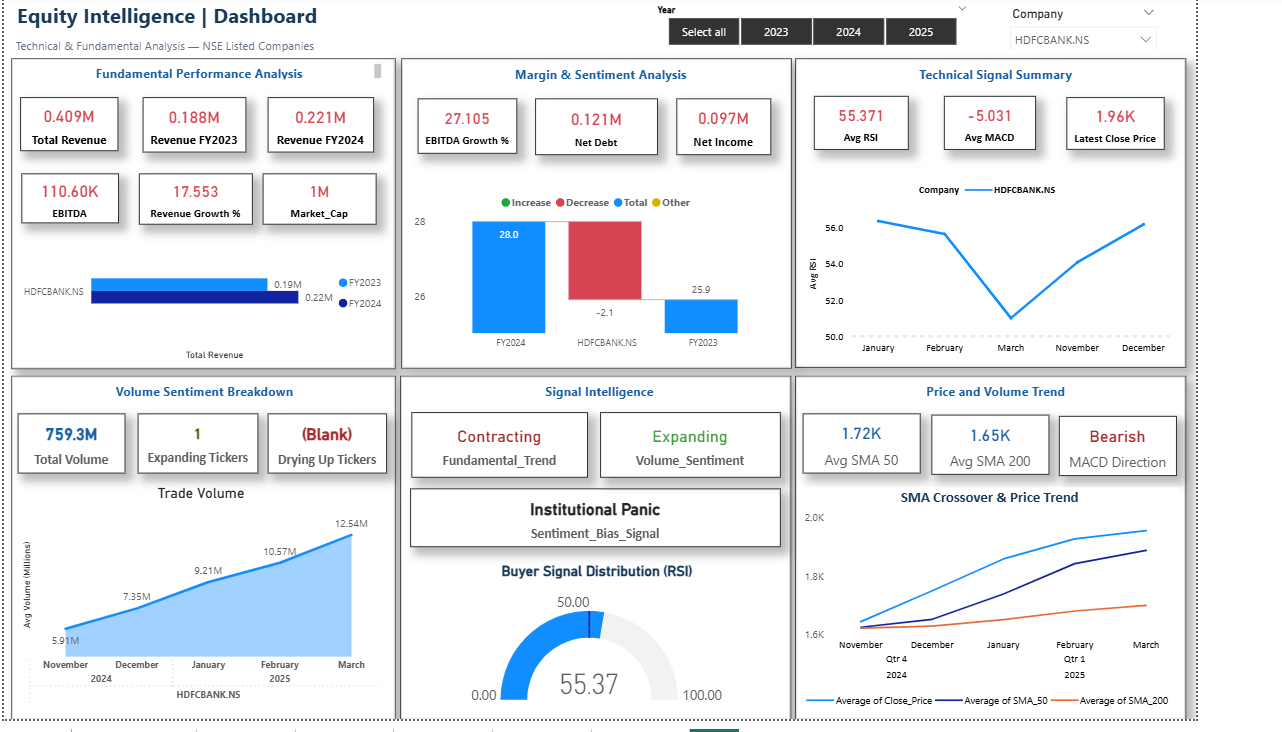

Layout of this report page (visuals, bound fields, positions):
{"tool":"powerbi","page":{"name":"Dashboard","canvas":[1400,850],"ordinal":0},"visuals":[{"type":"shape","box":[9,73,451,365],"z":0},{"type":"shape","box":[467.1,72.9,458.6,364.3],"z":1000},{"type":"shape","box":[929,73.5,459.3,363.2],"z":2000},{"type":"shape","box":[8.6,445.7,451.4,404.3],"z":3000},{"type":"shape","box":[465.3,445.8,459.3,403.7],"z":4000},{"type":"shape","box":[929,445.8,459.3,403.7],"z":5000},{"type":"textbox","box":[10,1,450,42],"z":6000},{"type":"textbox","box":[9,44,450,29],"z":7000},{"type":"slicer","fields":{"Values":["Dim_Date.Year"]},"box":[755,5,388.3,60],"z":8000},{"type":"card","fields":{"Values":["Sum(Fact_Fundamentals.Total_Revenue_Cr)"]},"box":[19.5,118.6,115.6,63],"z":9000},{"type":"card","fields":{"Values":["Sum(Fact_Fundamentals.EBITDA_Cr)"]},"box":[21,208.6,114.1,58.5],"z":10000},{"type":"card","fields":{"Values":["Fact_Fundamentals.Revenue FY2024"]},"box":[309.2,118.6,124.6,64.5],"z":11000},{"type":"card","fields":{"Values":["Fact_Fundamentals.Revenue FY2023"]},"box":[163.6,118.6,121.6,64.5],"z":12000},{"type":"card","fields":{"Values":["Fact_Fundamentals.Revenue Growth %"]},"box":[159.1,208.6,133.6,60],"z":13000},{"type":"clusteredBarChart","fields":{"Category":["Dim_Company.Ticker"],"Y":["Sum(Fact_Fundamentals.Total_Revenue_Cr)"],"Series":["Fact_Fundamentals.Fiscal_Year"]},"box":[12,264.2,445.8,168.1],"z":14000},{"type":"textbox","box":[19.5,75,429.2,28.5],"z":15000},{"type":"textbox","box":[485.7,75.7,430,30],"z":16000},{"type":"card","fields":{"Values":["Fact_Fundamentals.EBITDA Growth %"]},"box":[486.3,120.1,117.1,64.5],"z":17000},{"type":"card","fields":{"Values":["Sum(Fact_Fundamentals.Net_Income_Cr)"]},"box":[789.5,120.1,111.1,66],"z":18000},{"type":"card","fields":{"Values":["Sum(Fact_Fundamentals.Net_Debt_Cr)"]},"box":[624.4,120.1,144.1,66],"z":19000},{"type":"waterfallChart","fields":{"Category":["Fact_Fundamentals.Fiscal_Year"],"Y":["Sum(Fact_Fundamentals.EBITDA_Margin_Pct)"],"Breakdown":["Dim_Company.Ticker"]},"box":[477.3,223.6,439.8,201.1],"z":20000},{"type":"textbox","box":[950,76,430,30],"z":21000},{"type":"card","fields":{"Values":["Fact_Technicals.Avg RSI"]},"box":[951.5,117.1,111.1,63],"z":22000},{"type":"card","fields":{"Values":["Avg(Fact_Technicals.MACD)"]},"box":[1104.6,117.1,108.1,63],"z":23000},{"type":"card","fields":{"Values":["Fact_Technicals.Latest Close Price"]},"box":[1248.7,118.6,115.6,61.5],"z":24000},{"type":"lineChart","fields":{"Category":["Dim_Date.Date.Variation.Date Hierarchy.Month"],"Y":["Avg(Fact_Technicals.RSI)"],"Series":["Dim_Company.Ticker"]},"box":[939.5,208.6,435.3,222.1],"z":25000},{"type":"textbox","box":[20,450,430,30],"z":26000},{"type":"card","fields":{"Values":["Sum(Fact_Technicals.Volume)"]},"box":[16.7,490,126.7,70],"z":27000},{"type":"card","fields":{"Values":["Fact_Technicals.Expanding Count"]},"box":[156.7,490,141.7,70],"z":28000},{"type":"card","fields":{"Values":["Fact_Technicals.Drying Up Count"]},"box":[310,490,140,70],"z":29000},{"type":"areaChart","title":"Trade Volume","fields":{"Category":["Dim_Company.Ticker","Dim_Date.Date.Variation.Date Hierarchy.Year","Dim_Date.Date.Variation.Date Hierarchy.Month"],"Y":["Avg(Fact_Technicals.Volume)"]},"box":[16.5,574.8,430.7,267.2],"z":30000},{"type":"textbox","box":[485,450,430,30],"z":31000},{"type":"gauge","title":"Buyer Signal Distribution (RSI)","fields":{"Y":["Avg(Fact_Technicals.RSI)"]},"box":[476.7,665,438.3,171.7],"z":32000},{"type":"textbox","box":[950,450,430,30],"z":33000},{"type":"card","fields":{"Values":["Avg(Fact_Technicals.SMA_50)"]},"box":[938.3,490,138.3,70],"z":34000},{"type":"card","fields":{"Values":["Avg(Fact_Technicals.SMA_200)"]},"box":[1090,491.7,138.3,70],"z":35000},{"type":"card","fields":{"Values":["Fact_Technicals.MACD Signal Direction"]},"box":[1240,493.3,138.3,70],"z":36000},{"type":"slicer","fields":{"Values":["Dim_Company.Ticker"]},"box":[1172.2,7.5,192.1,55.5],"z":37000},{"type":"card","fields":{"Values":["Sum(Dim_Company.Market_Cap_Cr)"]},"box":[304.7,208.6,133.6,60],"z":38000},{"type":"card","fields":{"Values":["Fact_Fundamentals.1_Fundamental_Margin_Trend"]},"box":[478.8,489.3,207.1,76.5],"z":39000},{"type":"card","fields":{"Values":["Fact_Technicals.3_Sentiment_Bias_Signal"]},"box":[477.3,579.3,435.3,69],"z":40000},{"type":"card","fields":{"Values":["Fact_Technicals.2_Volume_Sentiment_Trend"]},"box":[700.9,489.3,211.6,76.5],"z":41000},{"type":"lineChart","title":"SMA Crossover & Price Trend","fields":{"Category":["Dim_Date.Date.Variation.Date Hierarchy.Year","Dim_Date.Date.Variation.Date Hierarchy.Quarter","Dim_Date.Date.Variation.Date Hierarchy.Month","Dim_Date.Date.Variation.Date Hierarchy.Day","Dim_Company.Ticker"],"Y":["Avg(Fact_Technicals.Close_Price)","Avg(Fact_Technicals.SMA_50)","Avg(Fact_Technicals.SMA_200)"]},"box":[935,576.7,445,268.3],"z":42000}]}

Visuals, with their boxes in screenshot pixels (x1, y1, x2, y2):
shape: <region>11, 55, 394, 365</region>
shape: <region>400, 55, 789, 364</region>
shape: <region>791, 56, 1181, 364</region>
shape: <region>11, 371, 394, 714</region>
shape: <region>398, 371, 788, 714</region>
shape: <region>791, 371, 1181, 714</region>
textbox: <region>12, 0, 394, 30</region>
textbox: <region>11, 31, 393, 55</region>
slicer - Dim_Date.Year: <region>644, 0, 973, 48</region>
card - Sum(Fact_Fundamentals.Total_Revenue_Cr): <region>20, 94, 118, 147</region>
card - Sum(Fact_Fundamentals.EBITDA_Cr): <region>21, 170, 118, 220</region>
card - Fact_Fundamentals.Revenue FY2024: <region>266, 94, 371, 149</region>
card - Fact_Fundamentals.Revenue FY2023: <region>142, 94, 245, 149</region>
card - Fact_Fundamentals.Revenue Growth %: <region>138, 170, 252, 221</region>
clusteredBarChart - Dim_Company.Ticker x Sum(Fact_Fundamentals.Total_Revenue_Cr): <region>14, 217, 392, 360</region>
textbox: <region>20, 57, 384, 81</region>
textbox: <region>415, 58, 780, 83</region>
card - Fact_Fundamentals.EBITDA Growth %: <region>416, 95, 515, 150</region>
card - Sum(Fact_Fundamentals.Net_Income_Cr): <region>673, 95, 767, 151</region>
card - Sum(Fact_Fundamentals.Net_Debt_Cr): <region>533, 95, 655, 151</region>
waterfallChart - Fact_Fundamentals.Fiscal_Year x Sum(Fact_Fundamentals.EBITDA_Margin_Pct): <region>408, 183, 781, 354</region>
textbox: <region>809, 58, 1174, 83</region>
card - Fact_Technicals.Avg RSI: <region>810, 93, 905, 146</region>
card - Avg(Fact_Technicals.MACD): <region>940, 93, 1032, 146</region>
card - Fact_Technicals.Latest Close Price: <region>1063, 94, 1161, 146</region>
lineChart - Dim_Date.Date.Variation.Date Hierarchy.Month x Avg(Fact_Technicals.RSI): <region>800, 170, 1170, 359</region>
textbox: <region>20, 375, 385, 400</region>
card - Sum(Fact_Technicals.Volume): <region>18, 409, 125, 468</region>
card - Fact_Technicals.Expanding Count: <region>136, 409, 256, 468</region>
card - Fact_Technicals.Drying Up Count: <region>266, 409, 385, 468</region>
"Trade Volume" areaChart: <region>17, 481, 383, 708</region>
textbox: <region>415, 375, 780, 400</region>
"Buyer Signal Distribution (RSI)" gauge: <region>408, 557, 780, 703</region>
textbox: <region>809, 375, 1174, 400</region>
card - Avg(Fact_Technicals.SMA_50): <region>799, 409, 917, 468</region>
card - Avg(Fact_Technicals.SMA_200): <region>928, 410, 1045, 470</region>
card - Fact_Technicals.MACD Signal Direction: <region>1055, 412, 1173, 471</region>
slicer - Dim_Company.Ticker: <region>998, 0, 1161, 47</region>
card - Sum(Dim_Company.Market_Cap_Cr): <region>262, 170, 375, 221</region>
card - Fact_Fundamentals.1_Fundamental_Margin_Trend: <region>409, 408, 585, 473</region>
card - Fact_Technicals.3_Sentiment_Bias_Signal: <region>408, 485, 777, 543</region>
card - Fact_Technicals.2_Volume_Sentiment_Trend: <region>598, 408, 777, 473</region>
"SMA Crossover & Price Trend" lineChart: <region>796, 483, 1174, 710</region>
